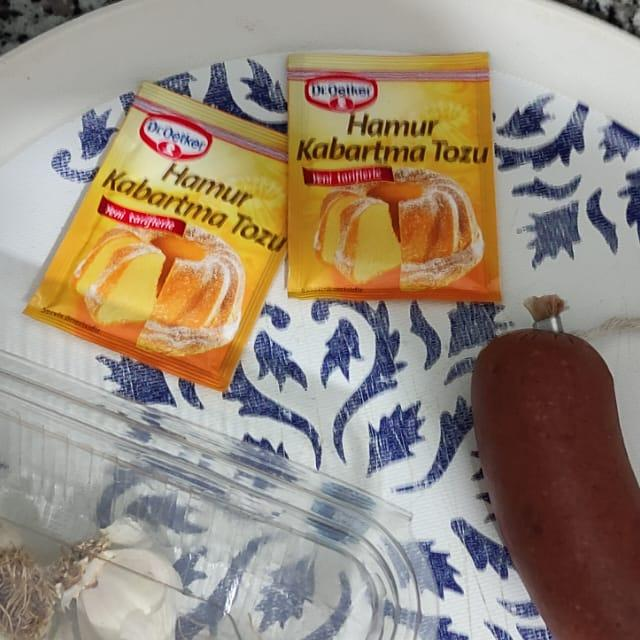garlic: (0, 516, 53, 640)
